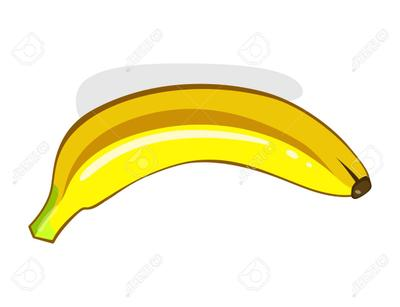banana: (0, 0, 400, 307)
